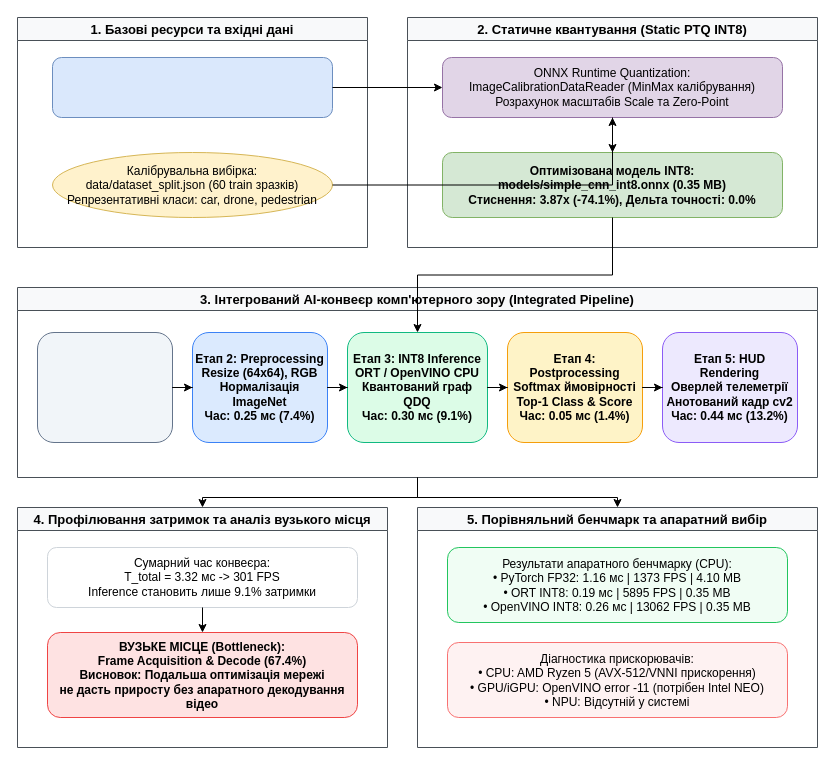
Some shapes in this 835 by 765 pixel diagram are drawn without their labels. The centre of each missing label's shape, as x and y in pixels:
"Базова модель FP32: models/simple_cnn.onnx Розмір: 1.36 MB, Точність: 100%" belongs at point 192,87.
"Етап 1: Frame Acquisition cv2.imread (диск / потік) Час: 2.24 мс (67.4%)" belongs at point 104,387.
